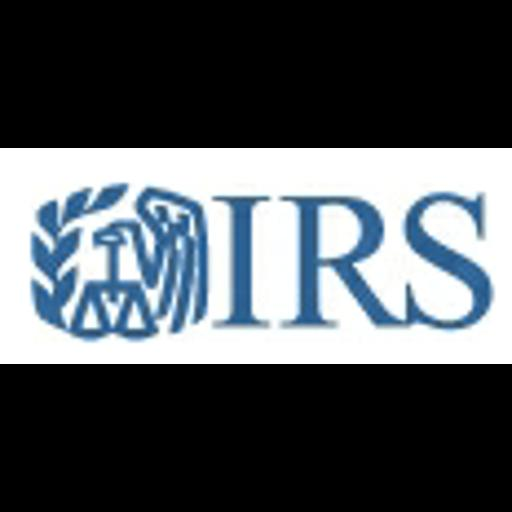IRS: (0, 148, 512, 364)
